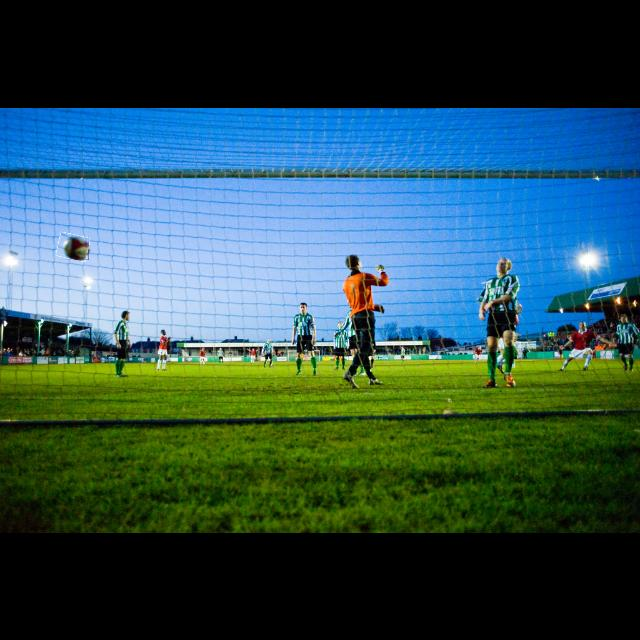Football: (57, 234, 89, 260)
